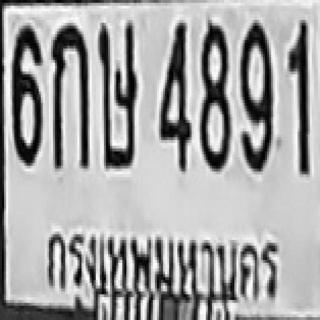A01: (51, 21, 88, 167)
A39: (96, 19, 137, 164)
N01: (287, 20, 308, 148)
N04: (157, 20, 190, 168)
N06: (10, 23, 41, 163)
N08: (199, 20, 229, 168)
N09: (238, 23, 271, 169)
P04: (41, 223, 284, 304)
